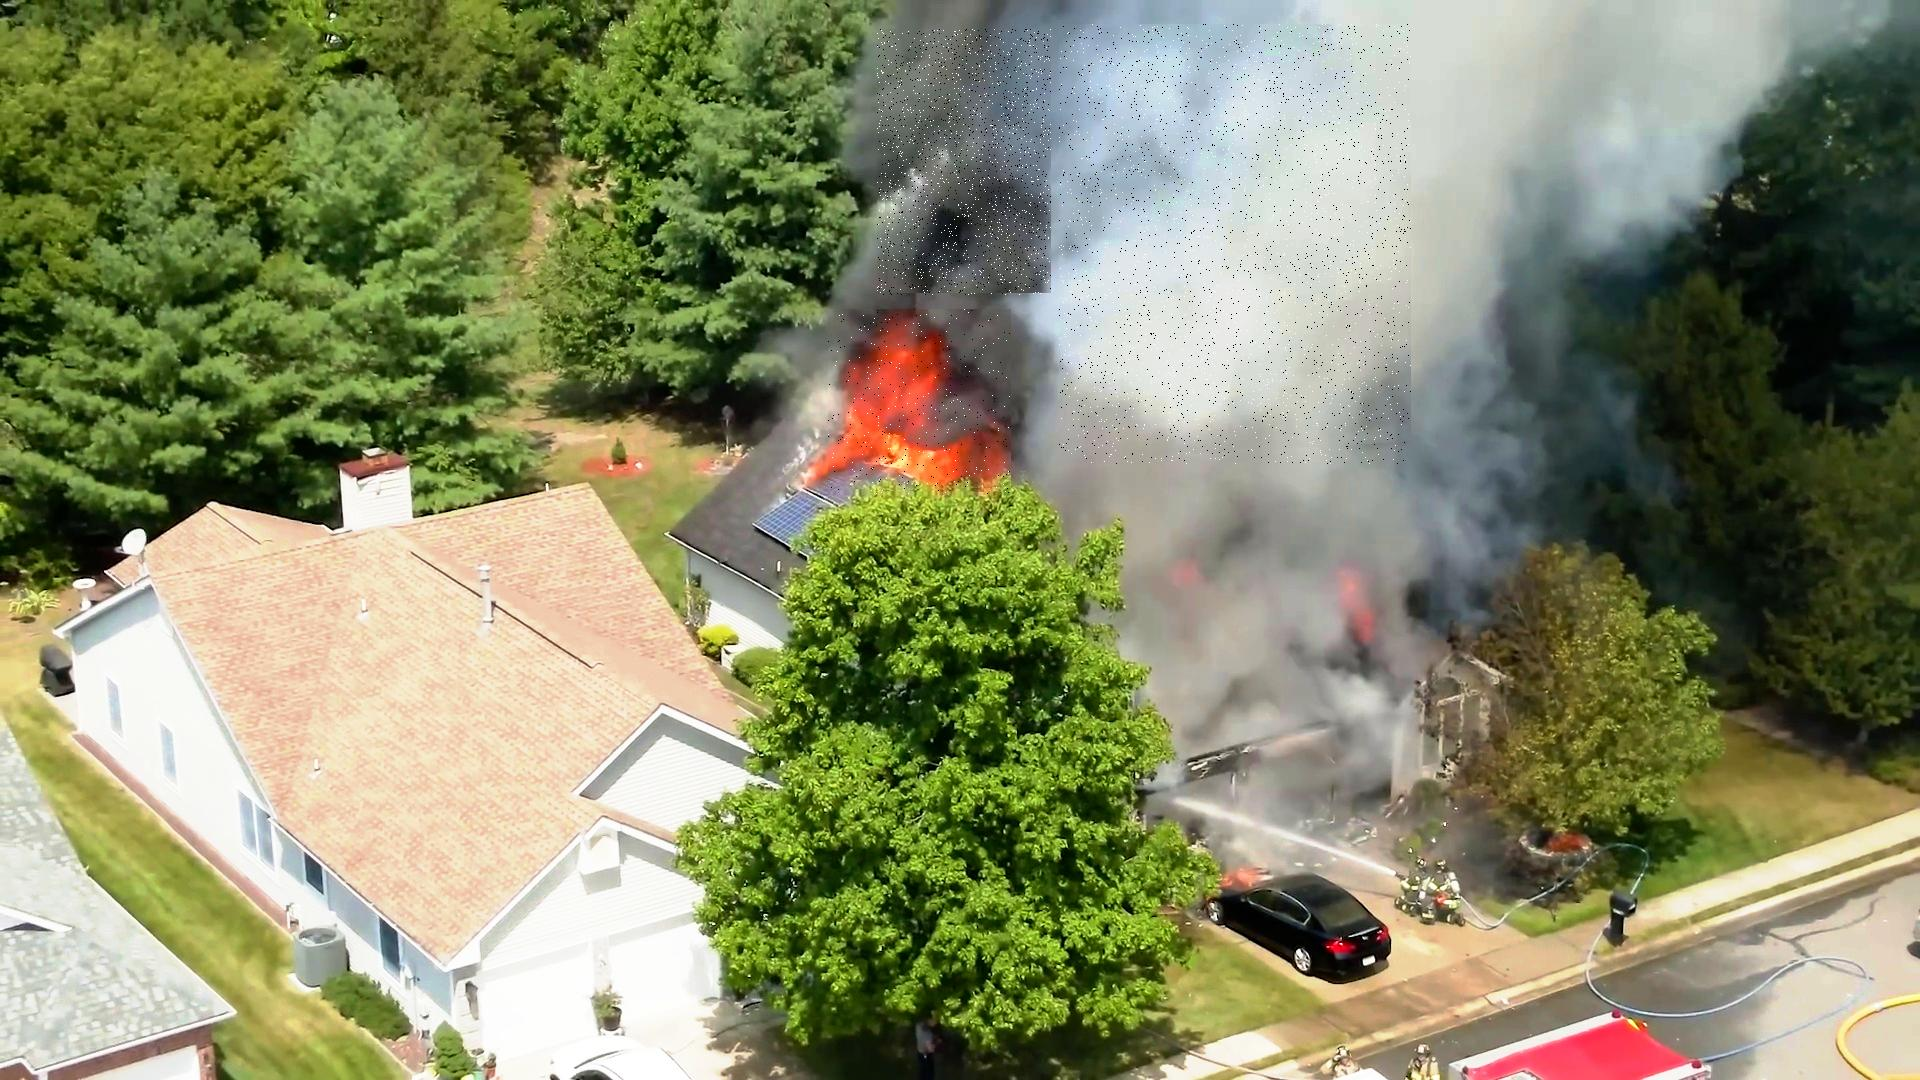fire: (828, 310, 1011, 495)
smoke: (1059, 25, 1411, 465), (877, 30, 1051, 295)
